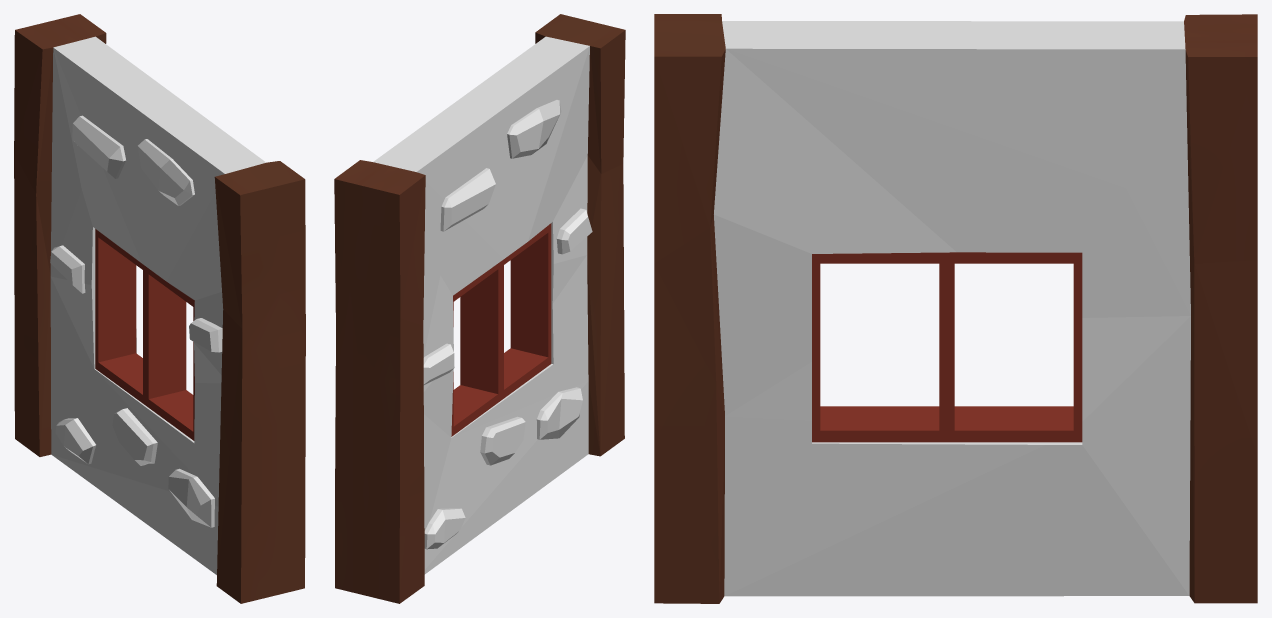
The model's file is Wall stones_Window.fbx.
3 views of the same model, side by side, from view 1: azimuth 30°, elevation 25°; view 2: azimuth 150°, elevation 25°; view 3: azimuth 270°, elevation 25° (orthographic). The views are drawn at different scales.
Parts seen in each view (by area): view 1: Wall stones_Window, Wall stones.001, Wall stones.011, Wall stones.015, Wall stones.014, Wall stones.013, Wall stones.012, Wall stones.016; view 2: Wall stones_Window, Wall stones.001, Wall stones.011, Wall stones.015, Wall stones.014, Wall stones.013, Wall stones.016, Wall stones.012; view 3: Wall stones_Window.
Part boxes in pixels (bbox=[...]): Wall stones_Window: bbox=[14, 14, 305, 603]; Wall stones.001: bbox=[137, 139, 194, 205]; Wall stones.011: bbox=[72, 115, 125, 178]; Wall stones.015: bbox=[168, 468, 214, 527]; Wall stones.014: bbox=[112, 408, 157, 465]; Wall stones.013: bbox=[55, 418, 96, 464]; Wall stones.012: bbox=[50, 245, 85, 293]; Wall stones.016: bbox=[189, 318, 222, 352]; Wall stones_Window: bbox=[334, 14, 625, 603]; Wall stones.001: bbox=[507, 100, 561, 158]; Wall stones.011: bbox=[440, 168, 495, 231]; Wall stones.015: bbox=[536, 387, 582, 439]; Wall stones.014: bbox=[480, 416, 525, 465]; Wall stones.013: bbox=[424, 508, 465, 549]; Wall stones.016: bbox=[556, 208, 592, 254]; Wall stones.012: bbox=[423, 343, 454, 384]; Wall stones_Window: bbox=[654, 14, 1257, 603].
Size of the model in its own units: 0.52 by 3 by 3.
